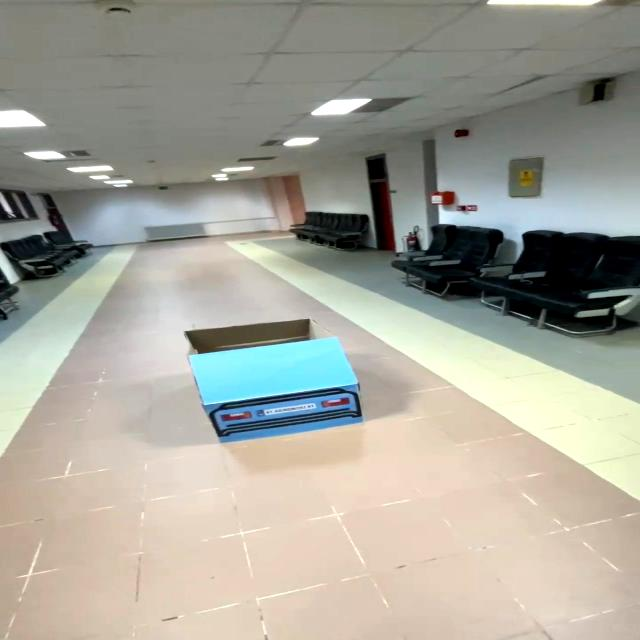blue_car: (157, 307, 391, 463)
